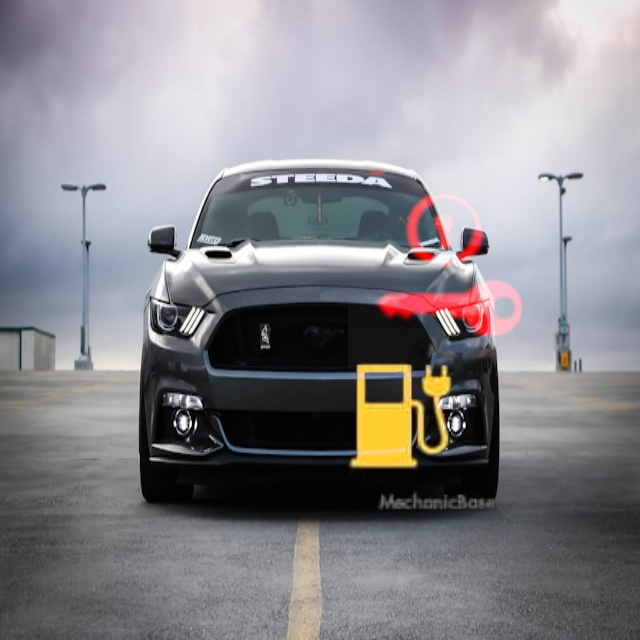symbol: (348, 163, 553, 368), (300, 316, 503, 519), (330, 61, 503, 234)
